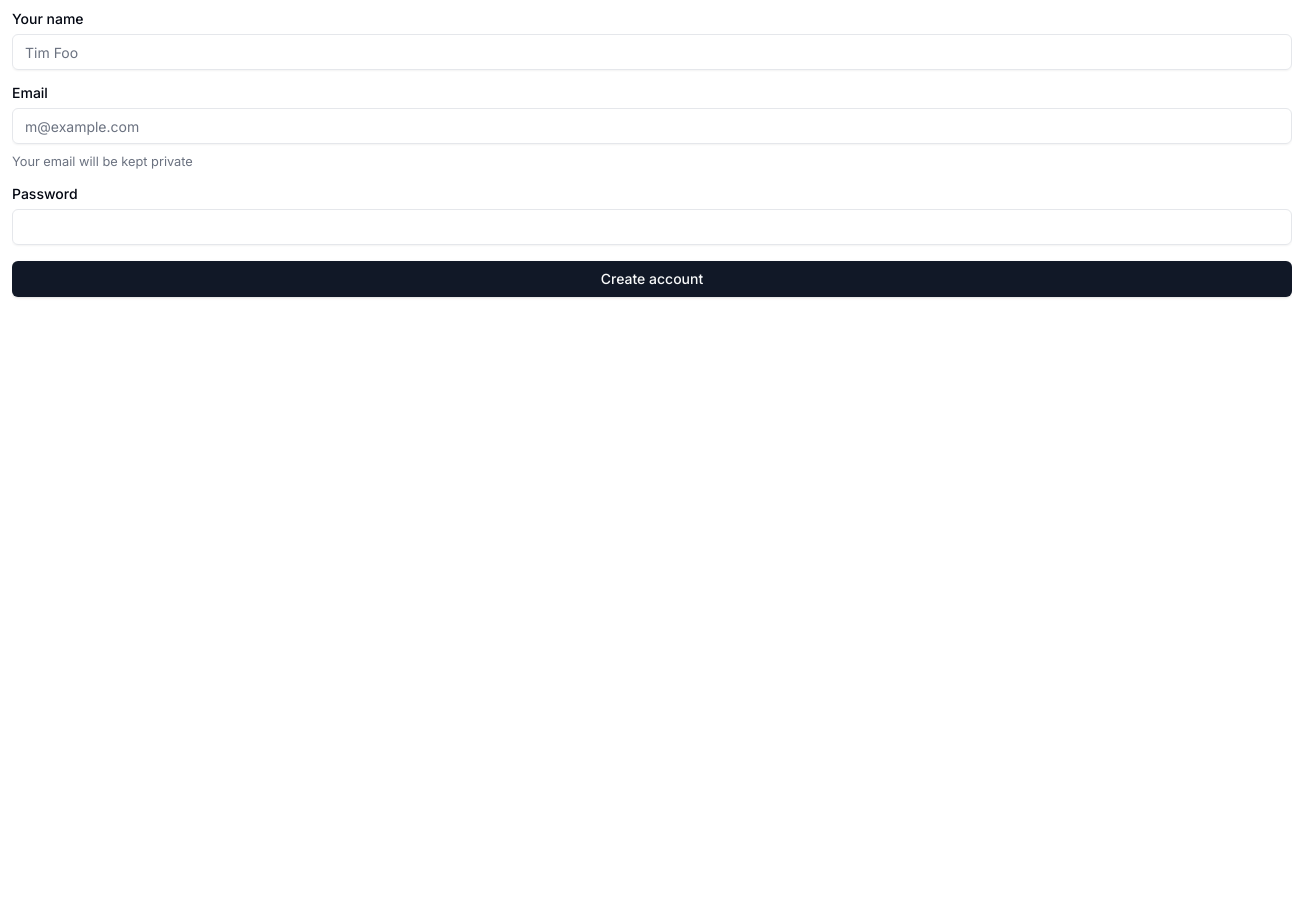
Scenario: validation is successful › should display error alert if some unexpected error occur
Step 1. Type "bob" into the field labelled "Your name" → (652, 52), box [12,34,1292,70]
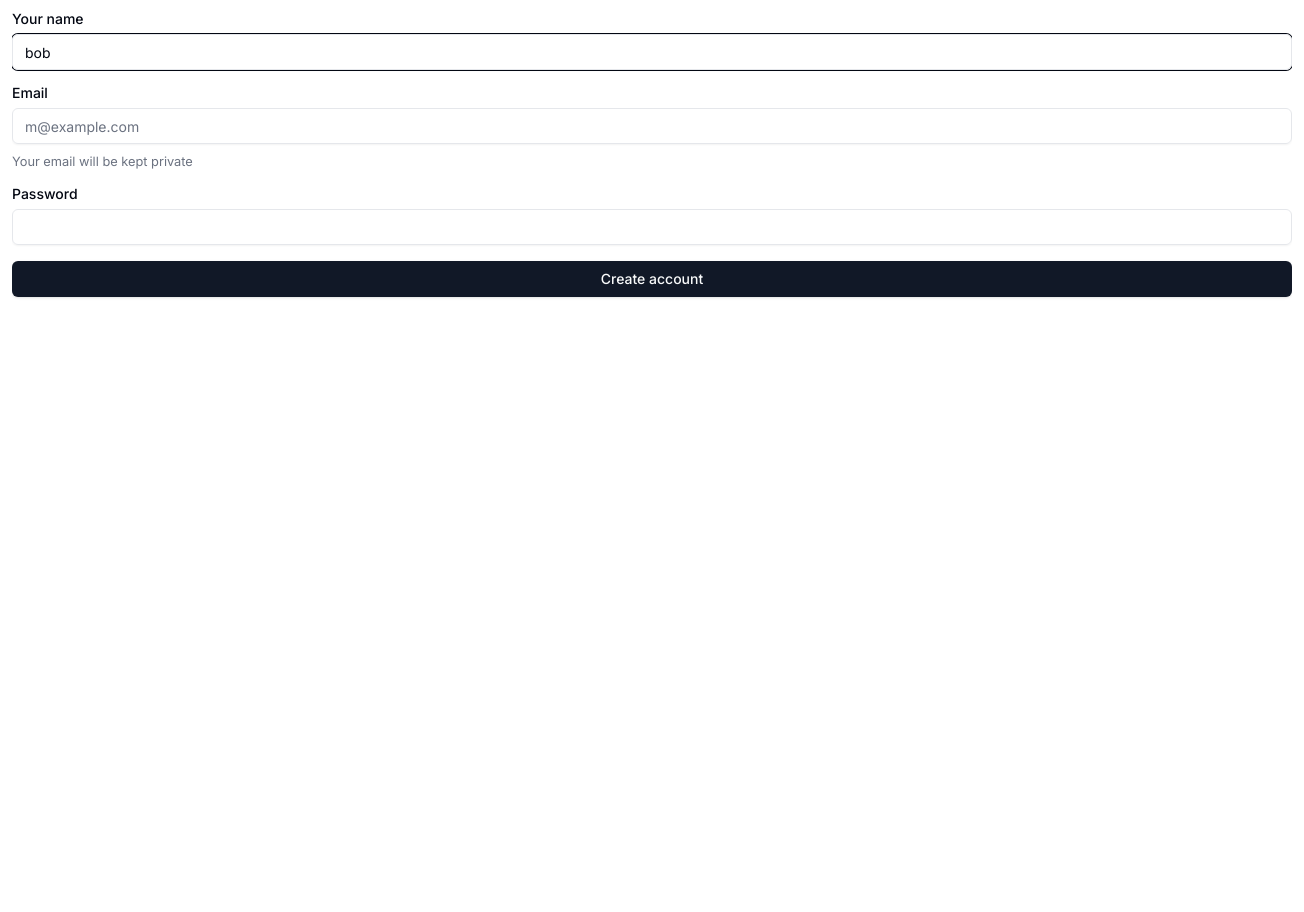
Step 2. Type "bob@bob.com" into the field labelled "Email" → (652, 126), box [12,108,1292,144]
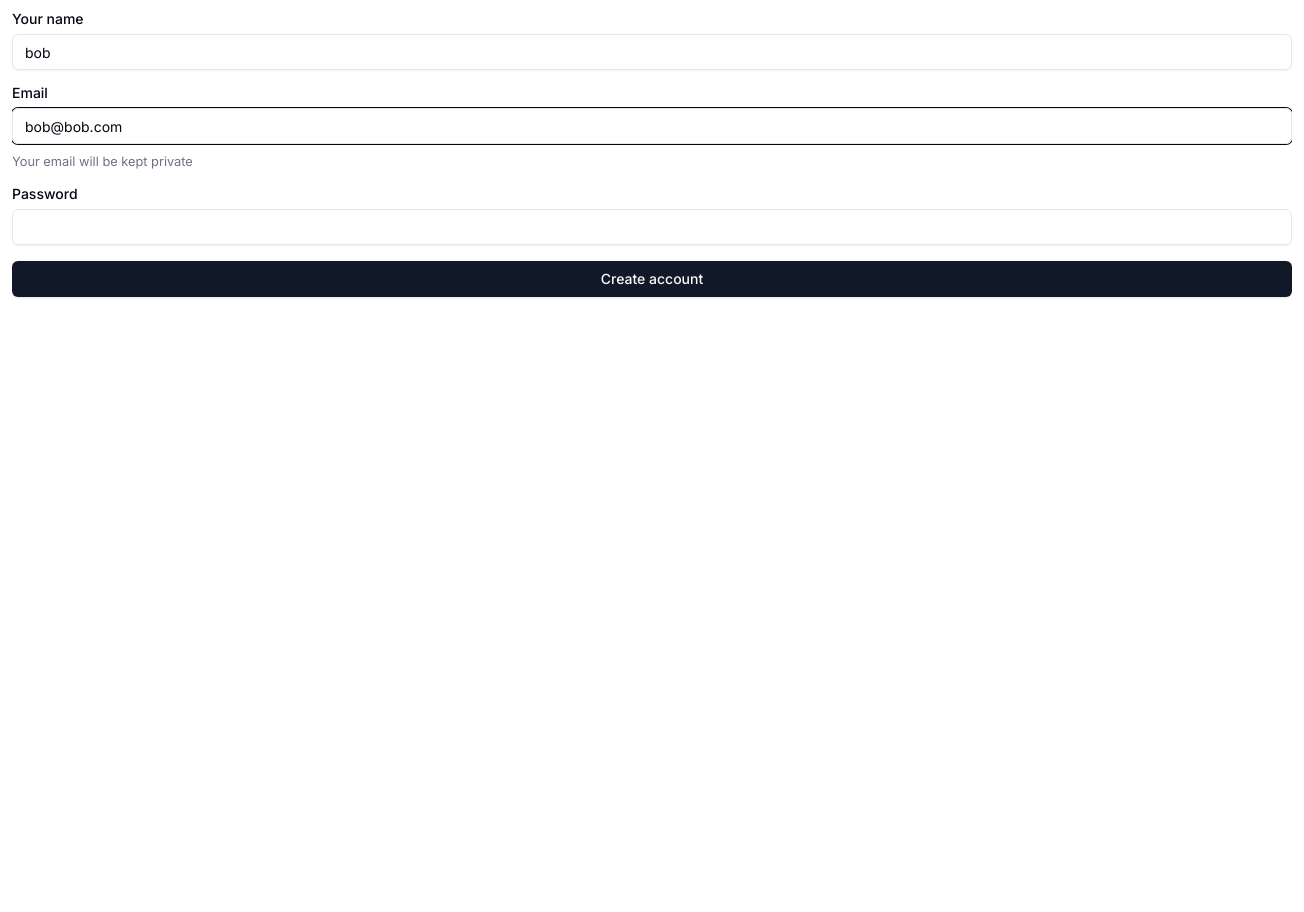
Step 3. Type "Bob123@" into the password field labelled "Password" → (652, 227), box [12,209,1292,245]
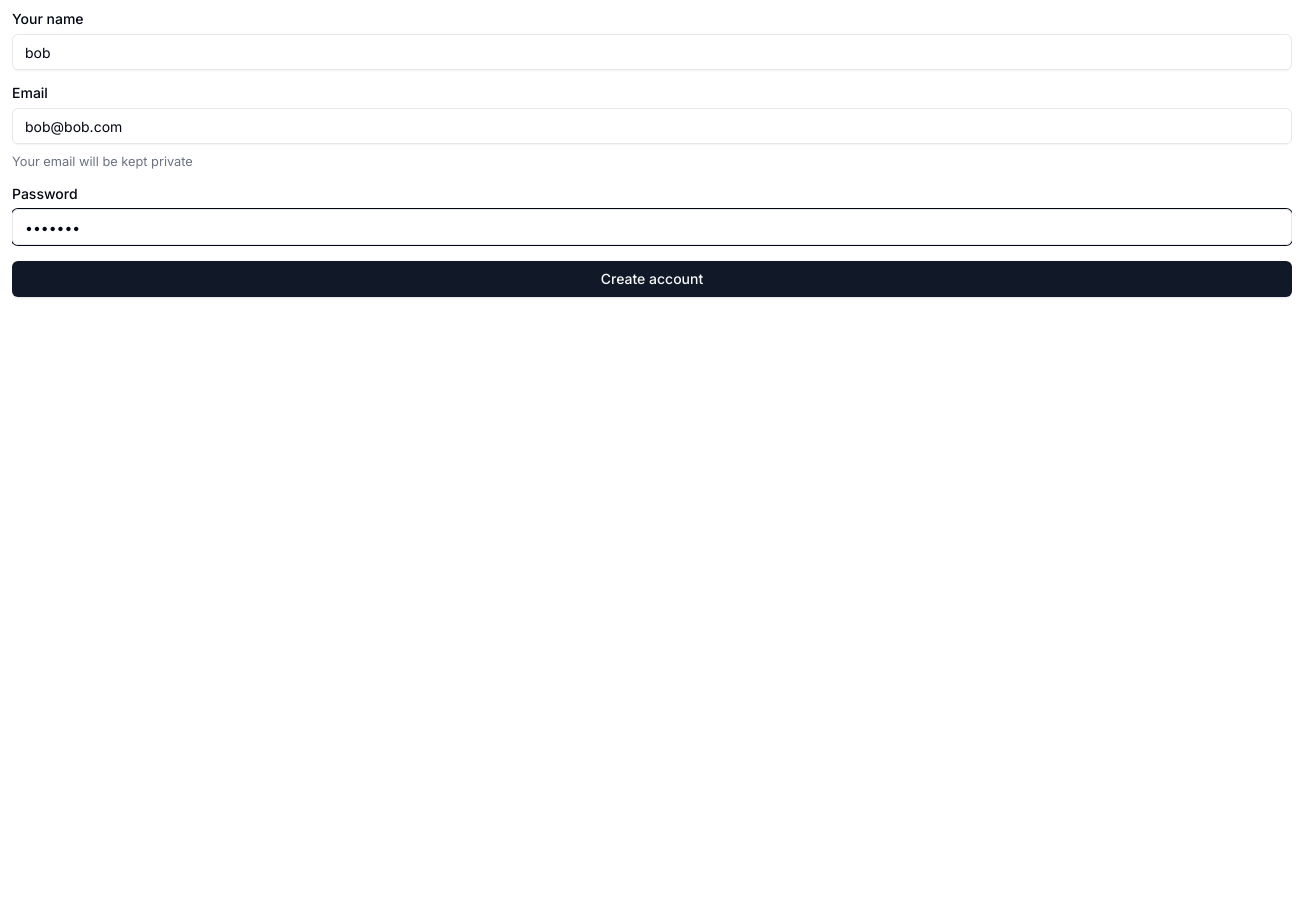
Step 4. Click the button "Create account" → (652, 279), box [12,261,1292,297]
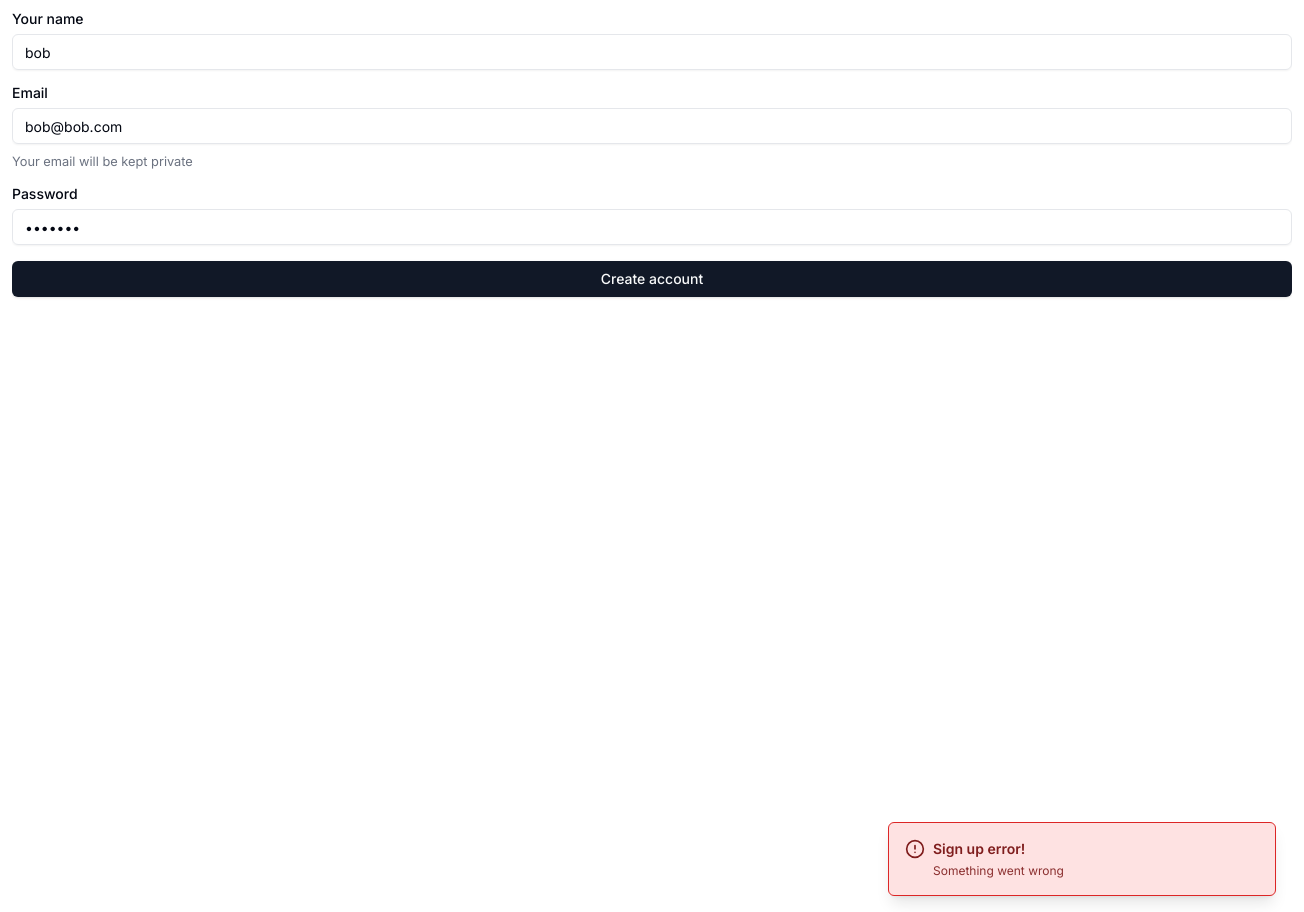
Result: the text "Sign up error!" is shown at [933,840,1025,857]
Result: the text "Something went wrong" is shown at [933,863,1064,879]
